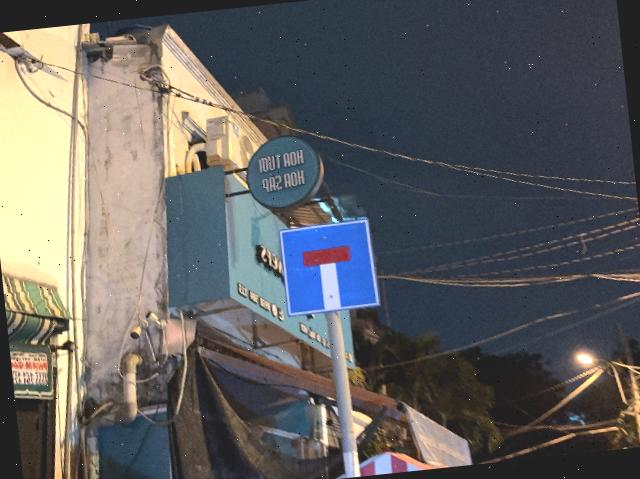duong-cut: (278, 218, 380, 316)
